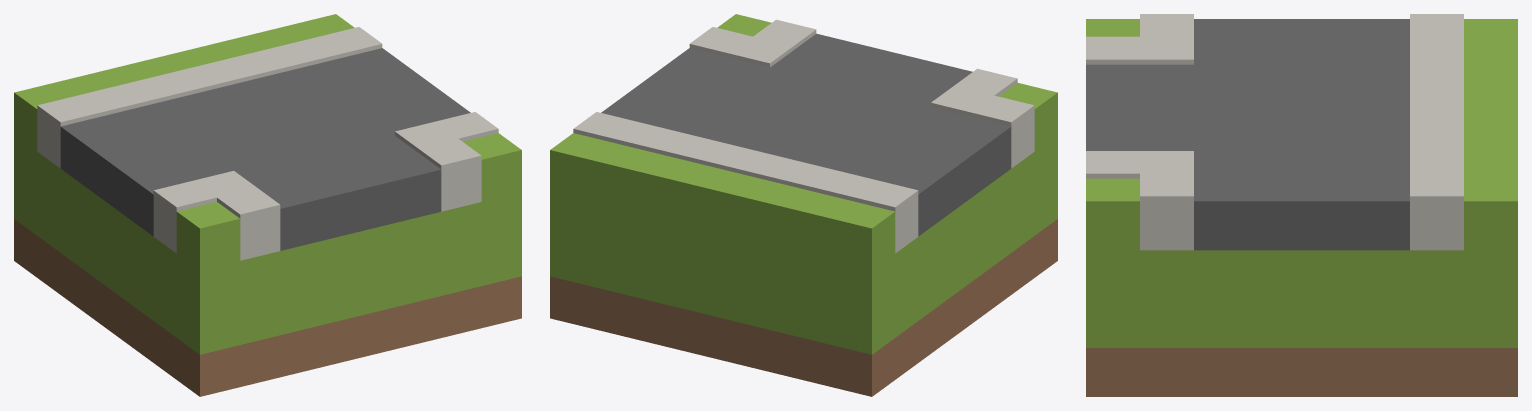
Rendered from road-tjunction-high.obj.
3 renders of one model, left to right at view 1: azimuth 30°, elevation 25°; view 2: azimuth 150°, elevation 25°; view 3: azimuth 270°, elevation 25°, orthographic. The views are drawn at different scales.
Parts seen in each view (by area): view 1: road-tjunction-high_Cube.551; view 2: road-tjunction-high_Cube.551; view 3: road-tjunction-high_Cube.551.
Part boxes in pixels (x1,y1,x2,y2): road-tjunction-high_Cube.551: [14, 14, 521, 396]; road-tjunction-high_Cube.551: [550, 14, 1057, 396]; road-tjunction-high_Cube.551: [1086, 14, 1517, 396].
Size of the model in its own units: 8 by 4.1 by 8.
1 material, 1 textured.
